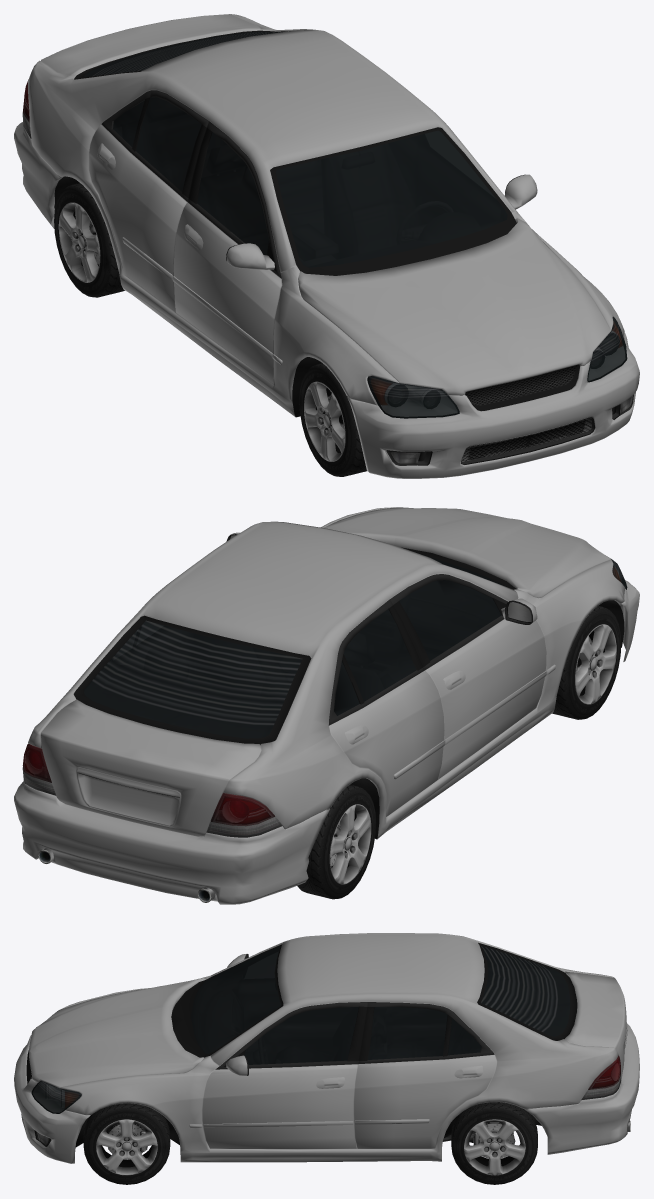
File: veicolo_epoca_compatta_98.glb
3 renders of one model, top to bottom at view 1: azimuth 30°, elevation 25°; view 2: azimuth 150°, elevation 25°; view 3: azimuth 270°, elevation 25°, orthographic. The views are drawn at different scales.
Visible parts, largest first — view 1: sb_modello; view 2: sb_modello; view 3: sb_modello.
Boxes of the visible parts, left/top/right/bottom form: sb_modello: left=14, top=14, right=639, bottom=478; sb_modello: left=14, top=507, right=639, bottom=904; sb_modello: left=14, top=933, right=639, bottom=1184.
Bounding box in the file's own units: 1.87 × 1.38 × 4.41.
6 materials, 5 textured.
